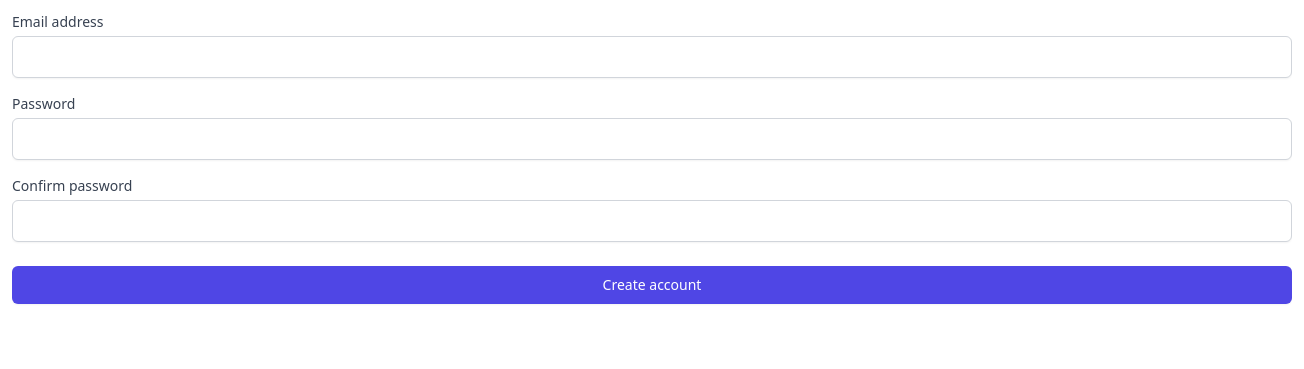
Test: RegisterForm › validation › shows password error when password is too short
Type "test@example.com" into the field labelled "Email address" at (652,57), box [12,36,1292,78]
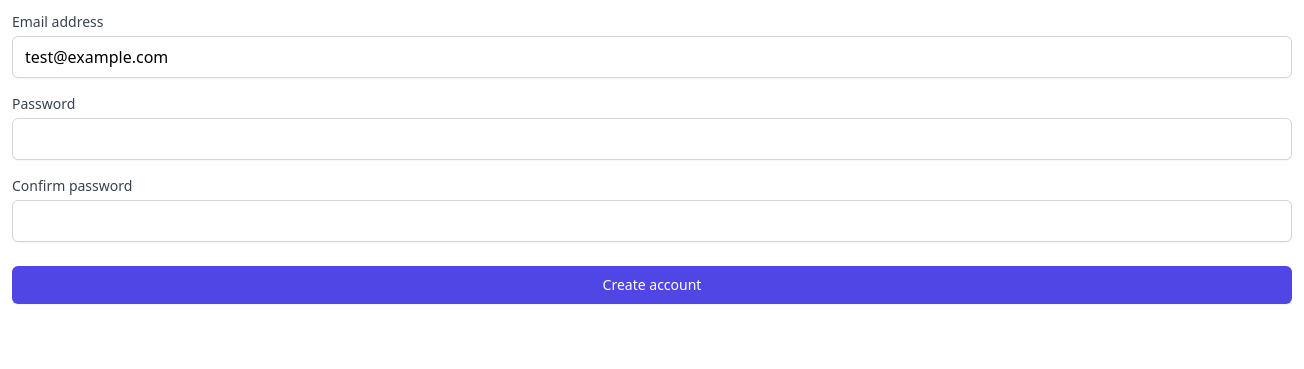
Type "abc" into the password field labelled "Password" at (652,139), box [12,118,1292,160]
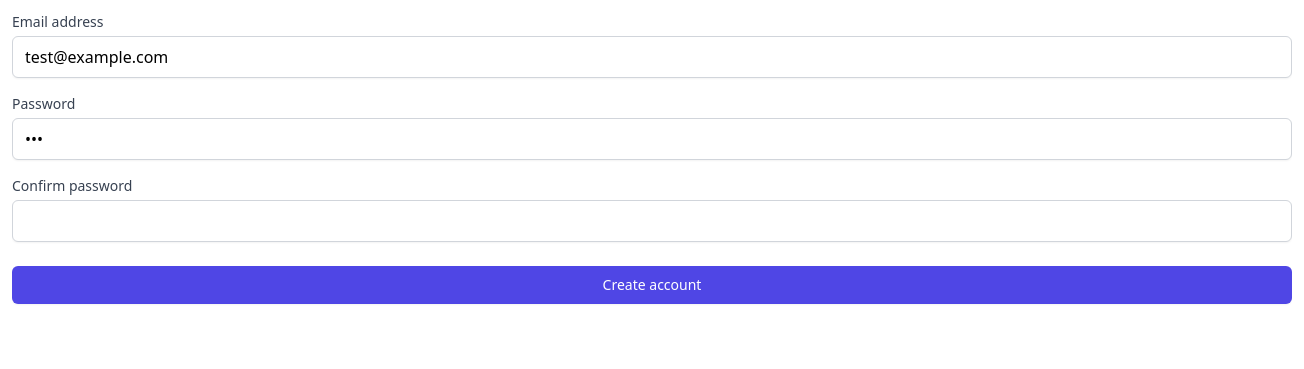
Click the button "Create account" at (652,285), box [12,266,1292,304]
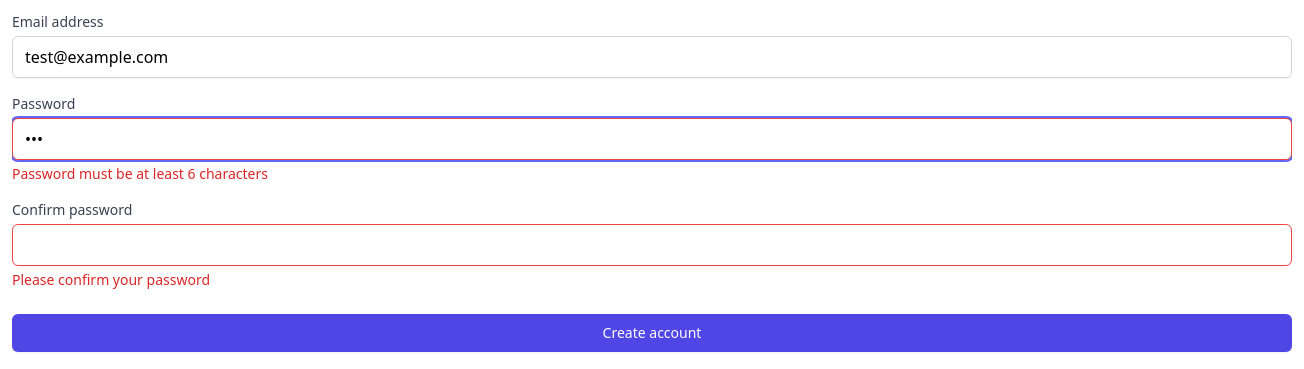
Check: the text "Password must be at least 6 characters" is shown, box [12,164,268,183]
